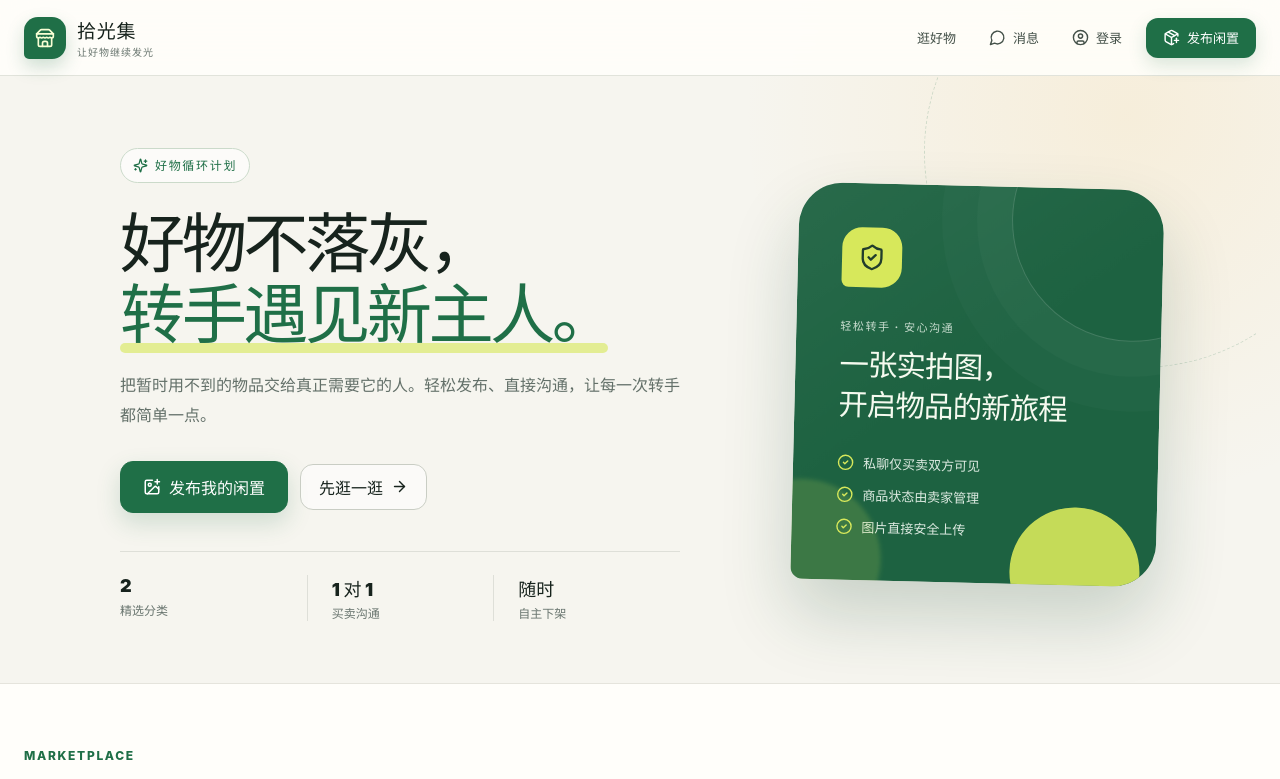
Test: marketplace app › blocks publishing while logged out
Click the button "发布闲置".
click(1201, 38)  # box [1146,18,1256,58]
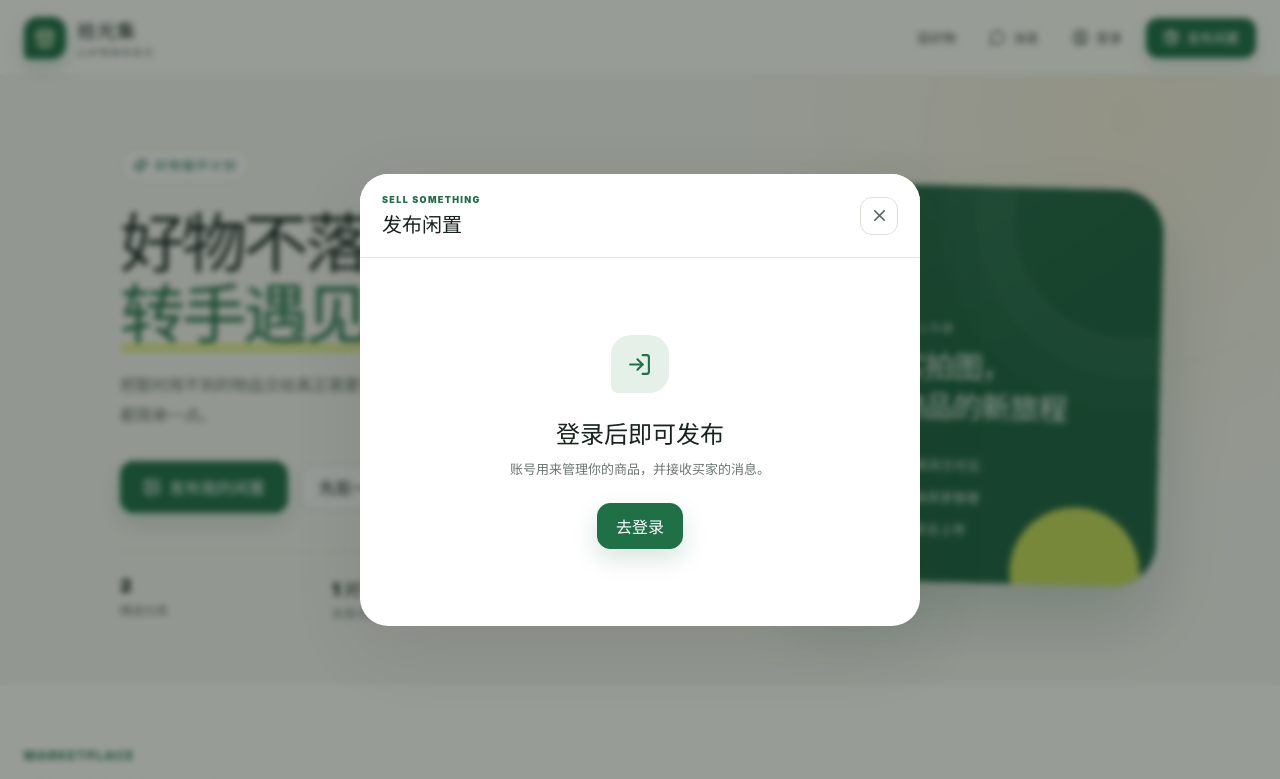
Expected: the heading "登录后即可发布" is shown, [556,416,724,450]
